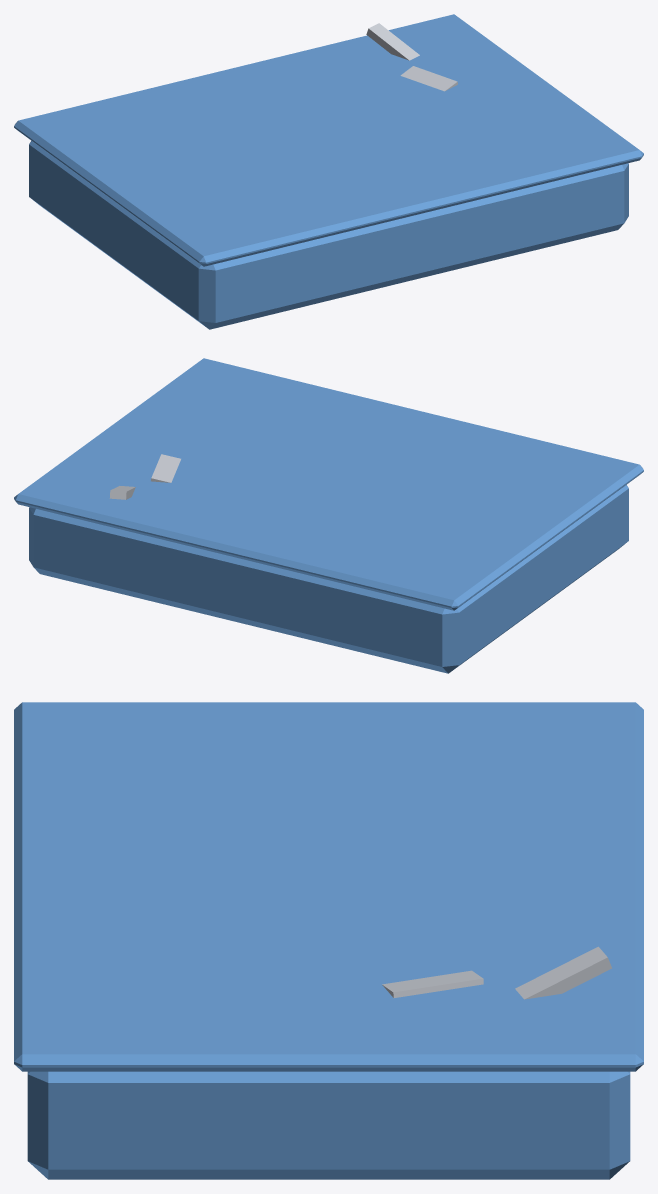
The model's file is litter_box.glb.
The picture shows the model from 3 angles, top to bottom: view 1: azimuth 30°, elevation 25°; view 2: azimuth 150°, elevation 25°; view 3: azimuth 270°, elevation 25°; orthographic projection. The views are drawn at different scales.
Visible parts, largest first — view 1: litter_box; view 2: litter_box; view 3: litter_box.
Part boxes in pixels (x1=…): litter_box: x1=14, y1=14, x2=643, y2=329; litter_box: x1=14, y1=358, x2=643, y2=673; litter_box: x1=14, y1=702, x2=643, y2=1179.
Bounding box in the file's own units: 0.62 × 0.1336 × 0.46.
